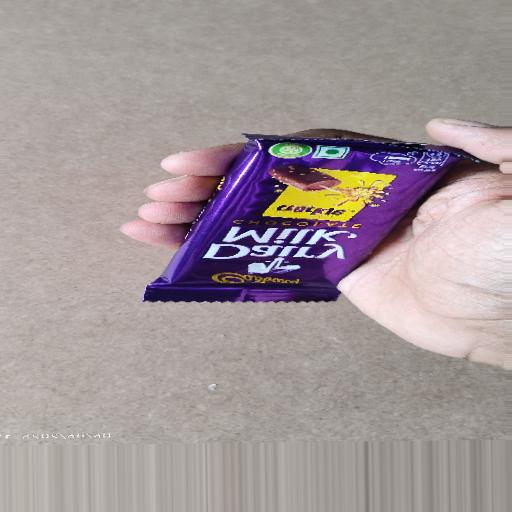Cadbury Dairy Milk Crackle: (121, 89, 472, 367)
